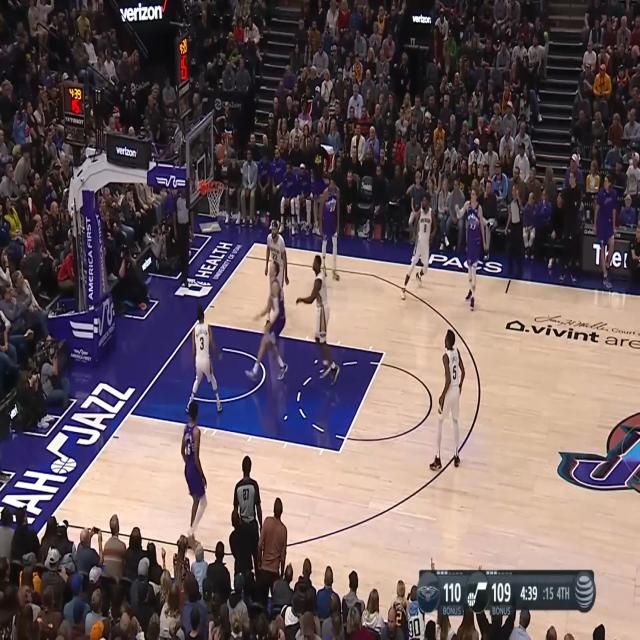Ball: (215, 144, 225, 161)
Clock: (63, 83, 84, 116), (178, 35, 188, 87)
Hoop: (206, 180, 224, 218)
Overlay: (418, 570, 596, 616)
Player: (296, 254, 340, 388), (245, 260, 288, 383), (429, 328, 465, 471), (400, 194, 437, 302), (185, 308, 223, 412), (181, 400, 208, 545), (455, 186, 486, 311), (318, 176, 342, 280), (265, 220, 289, 320)
Ref: (232, 456, 264, 592), (504, 183, 525, 280)
Scoreboard: (417, 570, 573, 616)
